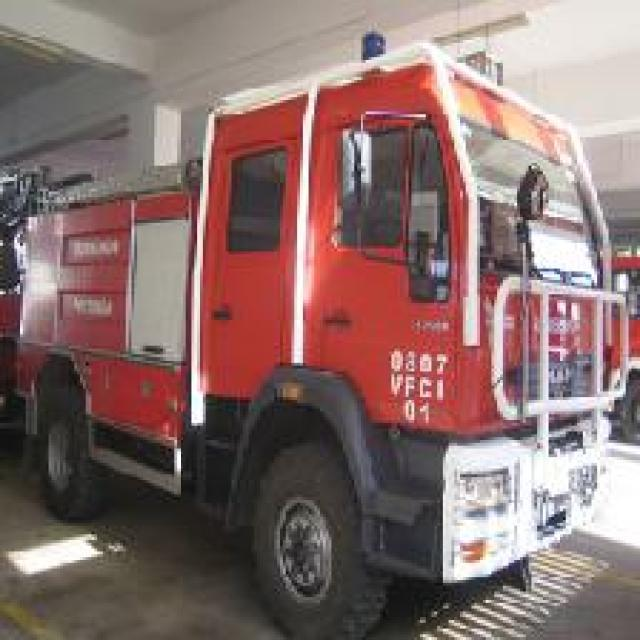emergency: (0, 28, 636, 637)
